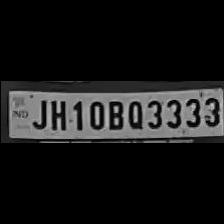0: (85, 97, 105, 130)
1: (67, 97, 85, 131)
3: (200, 94, 220, 128), (162, 96, 182, 128), (144, 96, 162, 130), (183, 94, 201, 128)
B: (105, 97, 124, 130)
H: (46, 97, 68, 131)
J: (28, 96, 46, 130)
Q: (124, 97, 144, 129)
